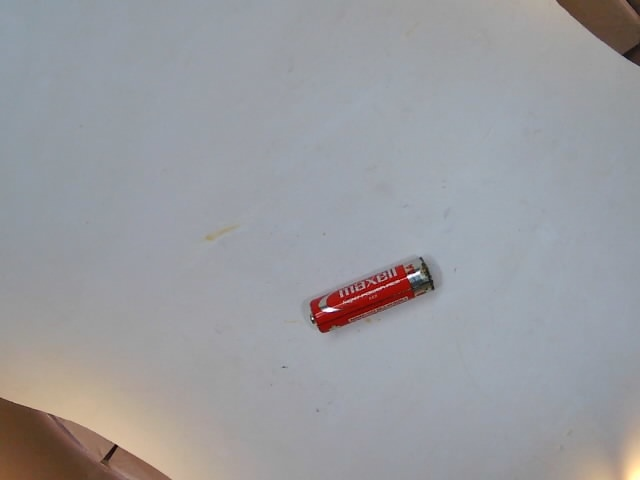battery: (299, 246, 443, 340)
